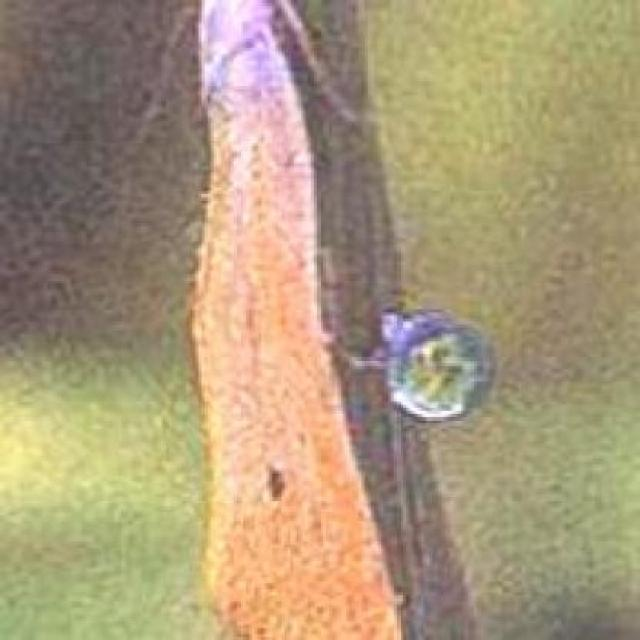stem-borer: (184, 0, 390, 640)
